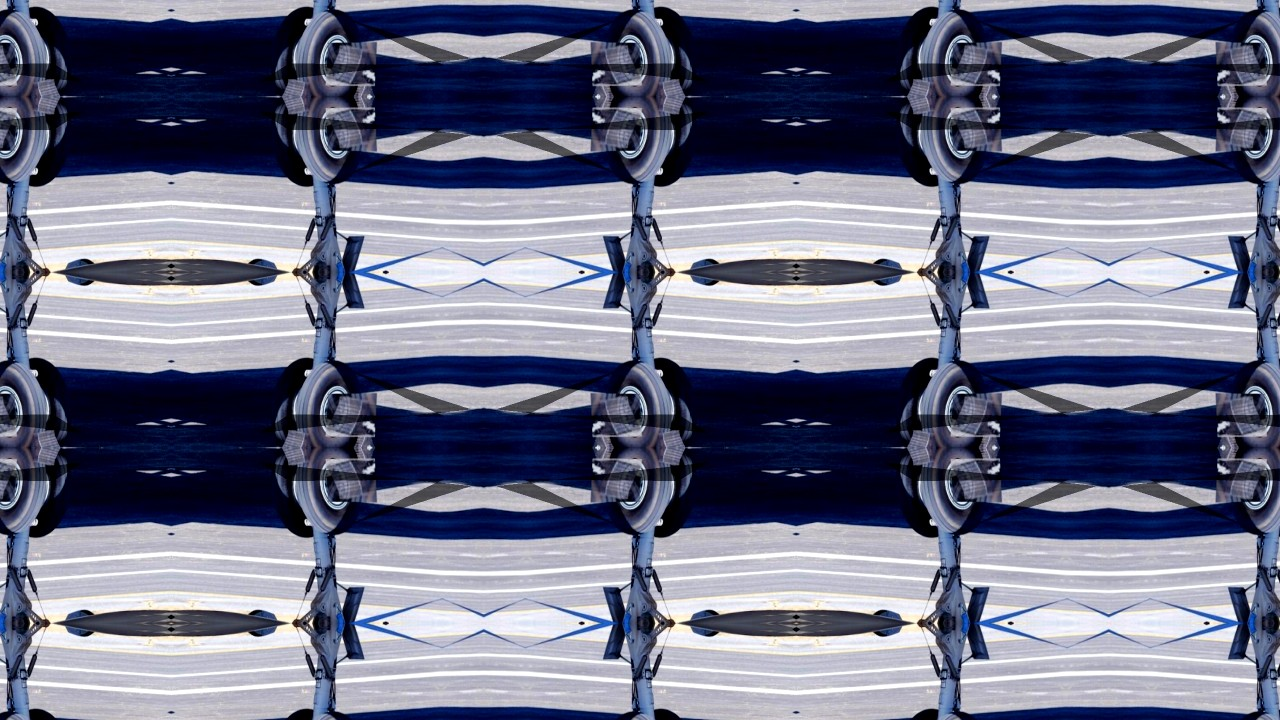chock: (325, 41, 377, 86), (590, 41, 642, 86), (951, 41, 1003, 86), (1216, 41, 1268, 86), (325, 106, 377, 151), (590, 106, 642, 151), (951, 106, 1003, 151), (1216, 106, 1268, 151), (325, 393, 377, 438), (590, 393, 642, 438), (951, 393, 1003, 438), (1216, 393, 1268, 438), (325, 458, 377, 503), (590, 458, 642, 503), (951, 458, 1003, 503), (1216, 458, 1268, 503), (26, 76, 64, 96), (277, 76, 315, 96), (342, 76, 380, 96), (652, 76, 690, 96), (587, 76, 625, 96), (903, 76, 941, 96), (968, 76, 1006, 96), (1213, 76, 1251, 96), (26, 96, 64, 116), (277, 96, 315, 116), (342, 96, 380, 116), (652, 96, 690, 116), (587, 96, 625, 116), (903, 96, 941, 116), (968, 96, 1006, 116), (1213, 96, 1251, 116), (26, 428, 64, 448), (277, 428, 315, 448), (342, 428, 380, 448), (652, 428, 690, 448), (587, 428, 625, 448), (903, 428, 941, 448), (968, 428, 1006, 448), (1213, 428, 1251, 448), (26, 448, 64, 468), (277, 448, 315, 468), (342, 448, 380, 468), (652, 448, 690, 468), (587, 448, 625, 468), (903, 448, 941, 468), (968, 448, 1006, 468), (1213, 448, 1251, 468), (0, 41, 16, 86), (0, 106, 16, 151), (0, 393, 16, 438), (0, 458, 16, 503)
wheel: (295, 9, 364, 96), (603, 9, 672, 96), (921, 9, 990, 96), (295, 96, 364, 183), (603, 96, 672, 183), (921, 96, 990, 183), (295, 361, 364, 448), (603, 361, 672, 448), (921, 361, 990, 448), (295, 448, 364, 535), (603, 448, 672, 535), (921, 448, 990, 535), (1229, 9, 1280, 96), (1229, 96, 1280, 183), (1229, 361, 1280, 448), (1229, 448, 1280, 535), (27, 5, 75, 94), (266, 5, 314, 94), (653, 5, 701, 94), (892, 5, 940, 94), (27, 98, 75, 187), (266, 98, 314, 187), (653, 98, 701, 187), (892, 98, 940, 187), (27, 357, 75, 446), (266, 357, 314, 446), (653, 357, 701, 446), (892, 357, 940, 446), (27, 450, 75, 539), (266, 450, 314, 539), (653, 450, 701, 539), (892, 450, 940, 539), (0, 9, 46, 96), (0, 96, 46, 183), (0, 361, 46, 448), (0, 448, 46, 535), (27, 709, 75, 720), (266, 709, 314, 720), (653, 709, 701, 720), (892, 709, 940, 720)
